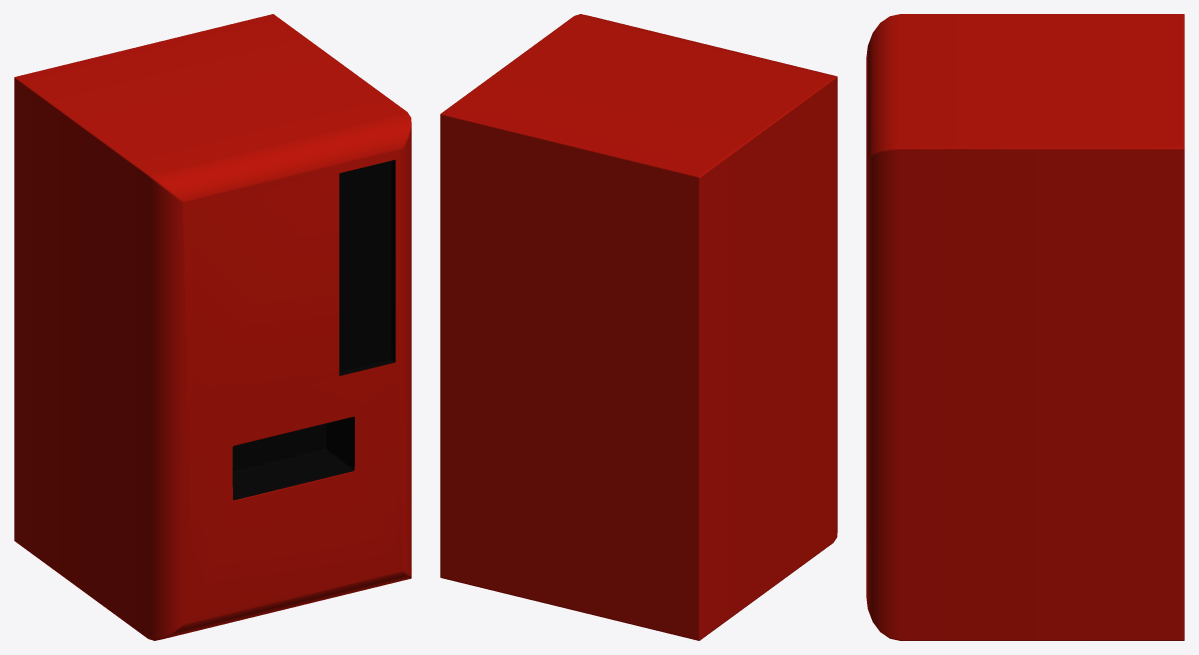
File: FoodQube.fbx
The picture shows the model from 3 angles, left to right: view 1: azimuth 30°, elevation 25°; view 2: azimuth 150°, elevation 25°; view 3: azimuth 270°, elevation 25°; orthographic projection. The views are drawn at different scales.
Parts seen in each view (by area): view 1: FoodQube; view 2: FoodQube; view 3: FoodQube.
Boxes of the visible parts, box(x1,y1,x2,y2) form: FoodQube: box(14, 14, 411, 640); FoodQube: box(440, 14, 837, 640); FoodQube: box(866, 14, 1184, 640).
Size of the model in its own units: 400 by 683 by 400.
